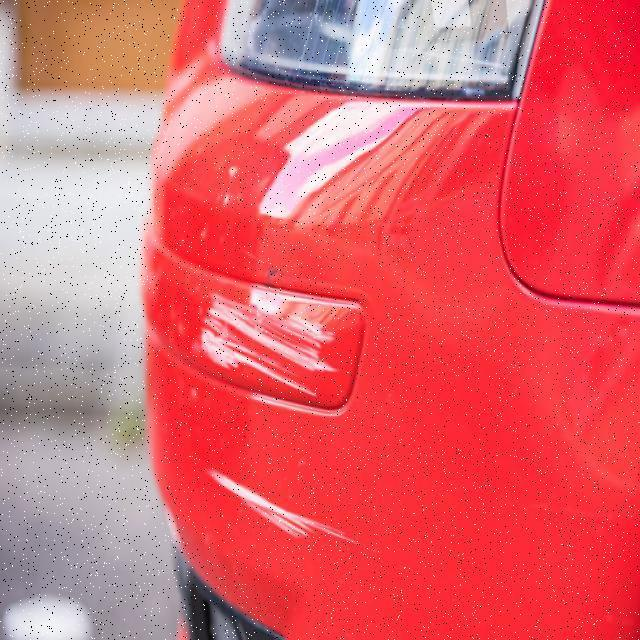front-bumper-dent: (142, 77, 518, 638)
